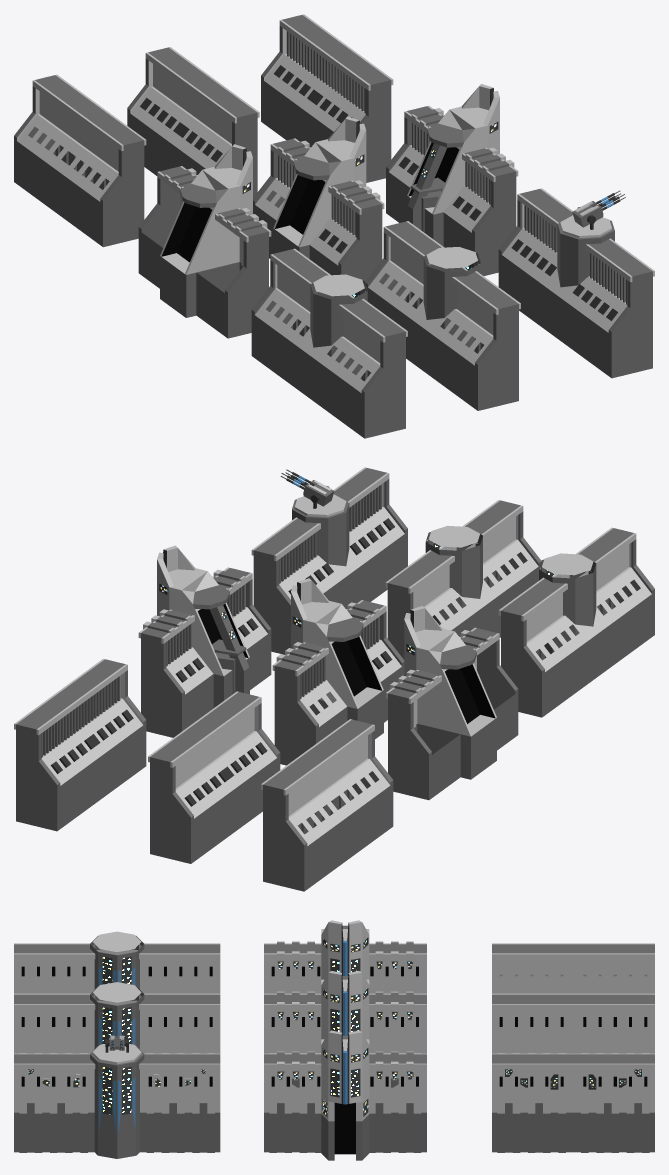
File: OB_Big_Fence_#1.fbx
3 views of the same model, one above another, from view 1: azimuth 30°, elevation 25°; view 2: azimuth 150°, elevation 25°; view 3: azimuth 270°, elevation 25° (orthographic). The views are drawn at different scales.
Parts seen in each view (by area): view 1: Model_0(0), Model_Skybox(0), Model_10), Model_Skybox(1), Model_0(1), Model_Skybox(2), Model_1(1), Model_0(2), Model_1(2); view 2: Model_Skybox(0), Model_Skybox(1), Model_0(1), Model_0(0), Model_1(1), Model_Skybox(2), Model_0(2), Model_1(2), Model_10); view 3: Model_0(0), Model_0(1), Model_0(2), Model_10), Model_Skybox(0), Model_1(1), Model_1(2), Model_Skybox(1), Model_Skybox(2).
Part boxes in pixels (x1,y1,x2,y2): Model_0(0): [498, 188, 654, 378]; Model_Skybox(0): [251, 248, 407, 438]; Model_10): [365, 221, 520, 410]; Model_Skybox(1): [138, 144, 271, 338]; Model_0(1): [386, 84, 518, 275]; Model_Skybox(2): [14, 74, 146, 247]; Model_1(1): [253, 116, 384, 281]; Model_0(2): [261, 14, 393, 182]; Model_1(2): [127, 47, 259, 197]; Model_Skybox(0): [498, 527, 654, 717]; Model_Skybox(1): [386, 606, 518, 800]; Model_0(1): [138, 545, 271, 737]; Model_0(0): [251, 467, 407, 654]; Model_1(1): [272, 578, 404, 765]; Model_Skybox(2): [261, 719, 393, 891]; Model_0(2): [14, 658, 146, 831]; Model_1(2): [148, 691, 280, 863]; Model_10): [385, 500, 541, 659]; Model_0(0): [14, 1035, 220, 1158]; Model_0(1): [264, 1030, 426, 1160]; Model_0(2): [492, 1053, 654, 1152]; Model_10): [14, 982, 220, 1053]; Model_Skybox(0): [14, 931, 220, 993]; Model_1(1): [264, 971, 426, 1053]; Model_1(2): [492, 993, 654, 1053]; Model_Skybox(1): [264, 920, 426, 993]; Model_Skybox(2): [492, 943, 654, 993].
Size of the model in its own units: 3163 by 1304 by 5900.
